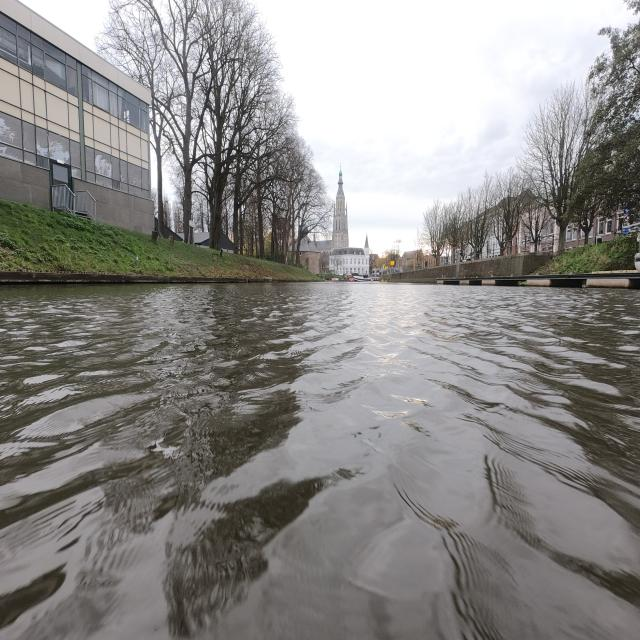dock: (0, 271, 285, 284), (436, 271, 640, 289)
grass: (0, 200, 317, 281), (548, 246, 630, 270)
sky: (256, 4, 614, 246), (30, 2, 102, 44)
tree: (199, 0, 277, 249), (145, 0, 206, 240), (576, 0, 640, 221), (154, 112, 165, 234), (233, 147, 241, 253)
wall: (391, 253, 553, 282)
water: (10, 288, 638, 630)
